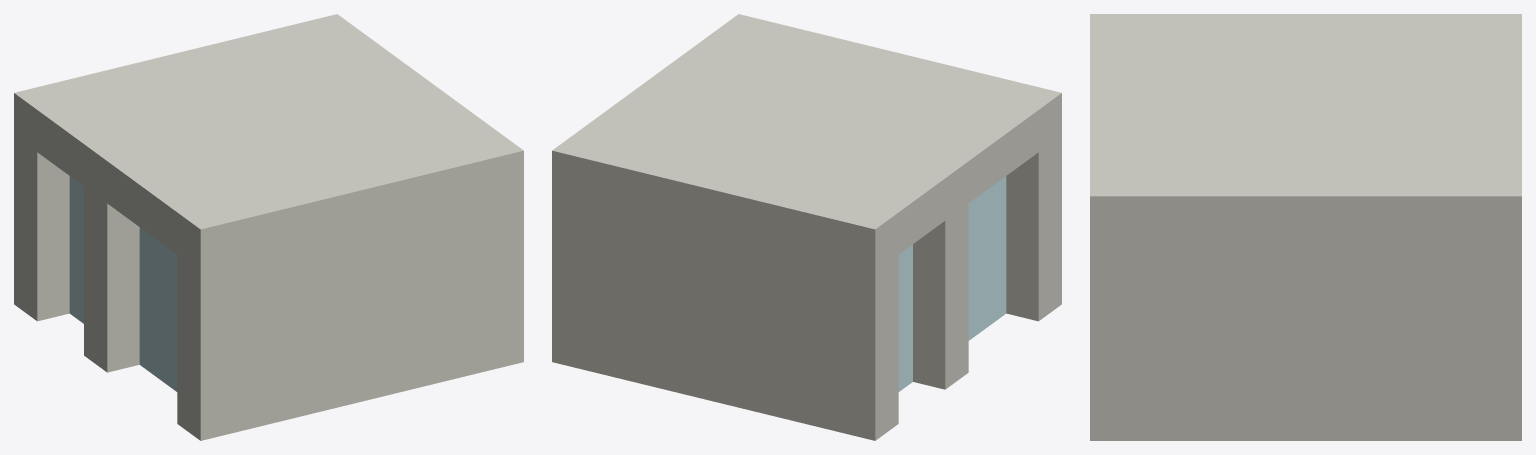
Rendered from building_022.glb.
3 renders of one model, left to right at view 1: azimuth 30°, elevation 25°; view 2: azimuth 150°, elevation 25°; view 3: azimuth 270°, elevation 25°, orthographic. The views are drawn at different scales.
Visible parts, largest first — view 1: building_022; view 2: building_022; view 3: building_022.
Part boxes in pixels (<box>): building_022: <box>14,14,523,440</box>; building_022: <box>552,14,1061,440</box>; building_022: <box>1090,14,1521,440</box>.
Bounding box in the file's own units: 1 × 0.625 × 1.
